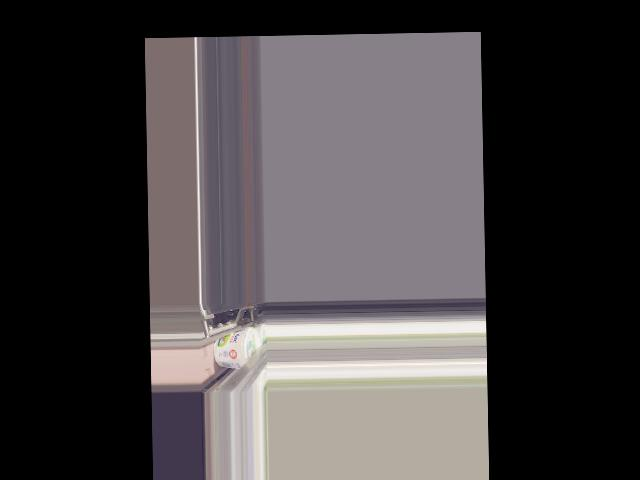cotage: (214, 329, 261, 370)
